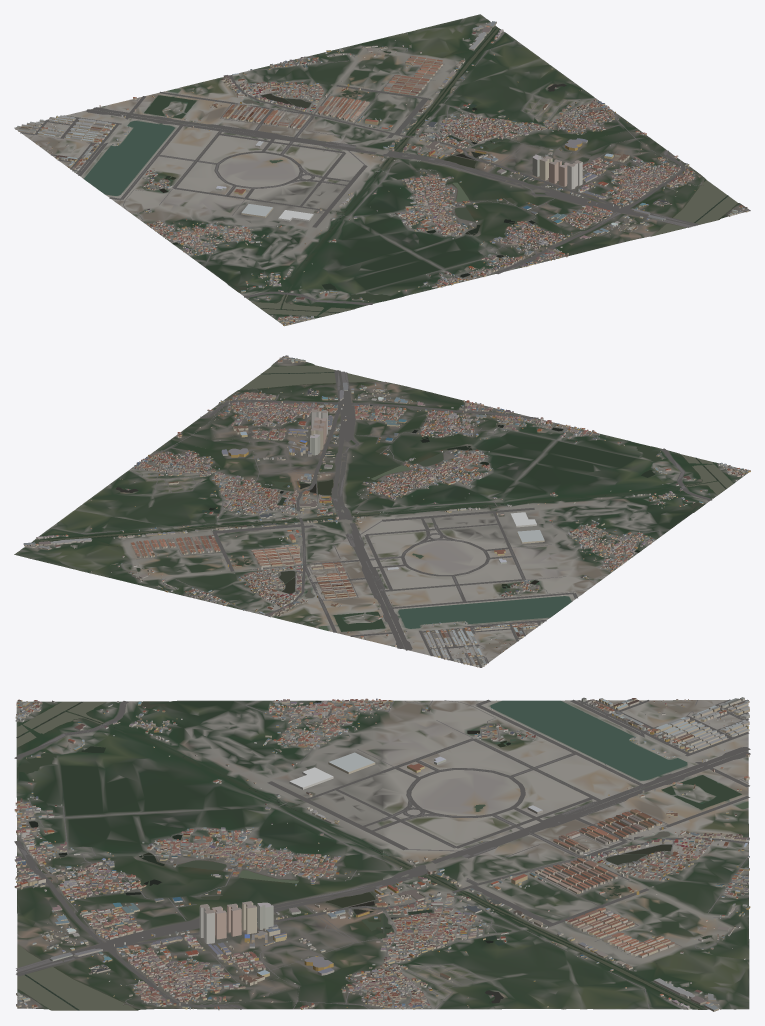
The picture shows the model from 3 angles, top to bottom: view 1: azimuth 30°, elevation 25°; view 2: azimuth 150°, elevation 25°; view 3: azimuth 270°, elevation 25°; orthographic projection. The views are drawn at different scales.
Visible parts, largest first — view 1: ground, buildings, roads, water; view 2: ground, buildings, roads, water; view 3: ground, buildings, roads, water.
Part boxes in pixels (<box>): ground: <box>17,14,750,326</box>; buildings: <box>15,21,748,325</box>; roads: <box>14,32,748,304</box>; water: <box>84,26,737,316</box>; ground: <box>14,356,748,667</box>; buildings: <box>23,355,750,667</box>; roads: <box>43,357,711,667</box>; water: <box>32,365,733,631</box>; ground: <box>16,700,749,1010</box>; buildings: <box>14,697,750,1011</box>; roads: <box>14,699,750,1009</box>; water: <box>16,700,748,1010</box>.
Size of the model in its own units: 2827 by 137 by 2823.
